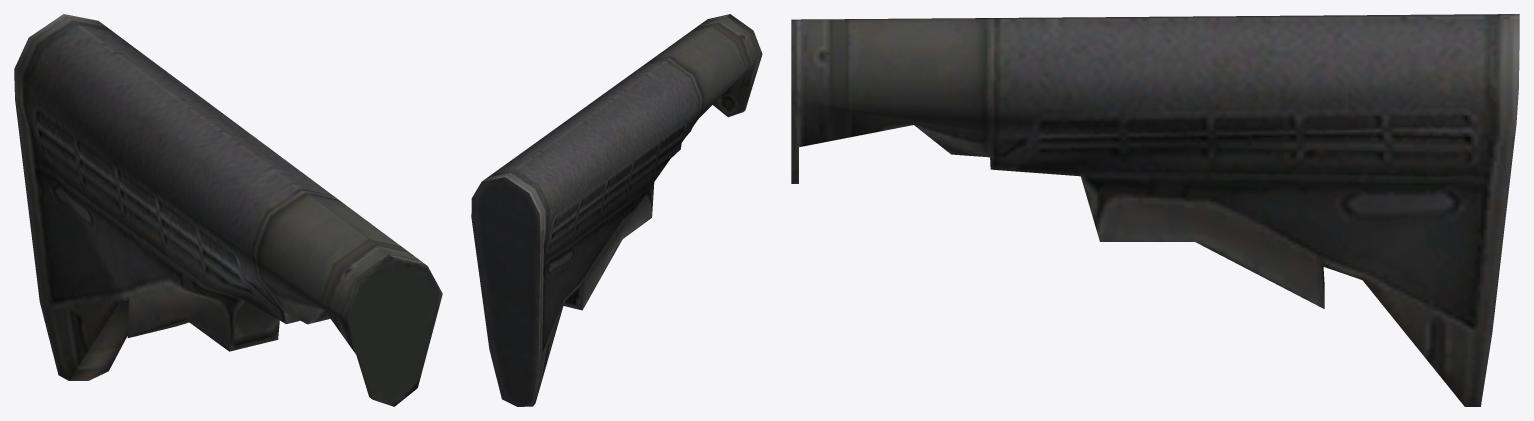
The model's file is Assault_Rifle_bq_qtb_02_Stock_Attachment_Main_(000617).glb.
The picture shows the model from 3 angles, left to right: view 1: azimuth 30°, elevation 25°; view 2: azimuth 150°, elevation 25°; view 3: azimuth 270°, elevation 25°; orthographic projection. The views are drawn at different scales.
Parts seen in each view (by area): view 1: bq_qtb_02; view 2: bq_qtb_02; view 3: bq_qtb_02.
Part boxes in pixels (x1,y1,x2,y2): bq_qtb_02: [14, 14, 442, 406]; bq_qtb_02: [471, 14, 762, 406]; bq_qtb_02: [791, 14, 1519, 406].
Size of the model in its own units: 0.0457 by 0.1513 by 0.259.
Materials: 1 (1 with a texture image).
